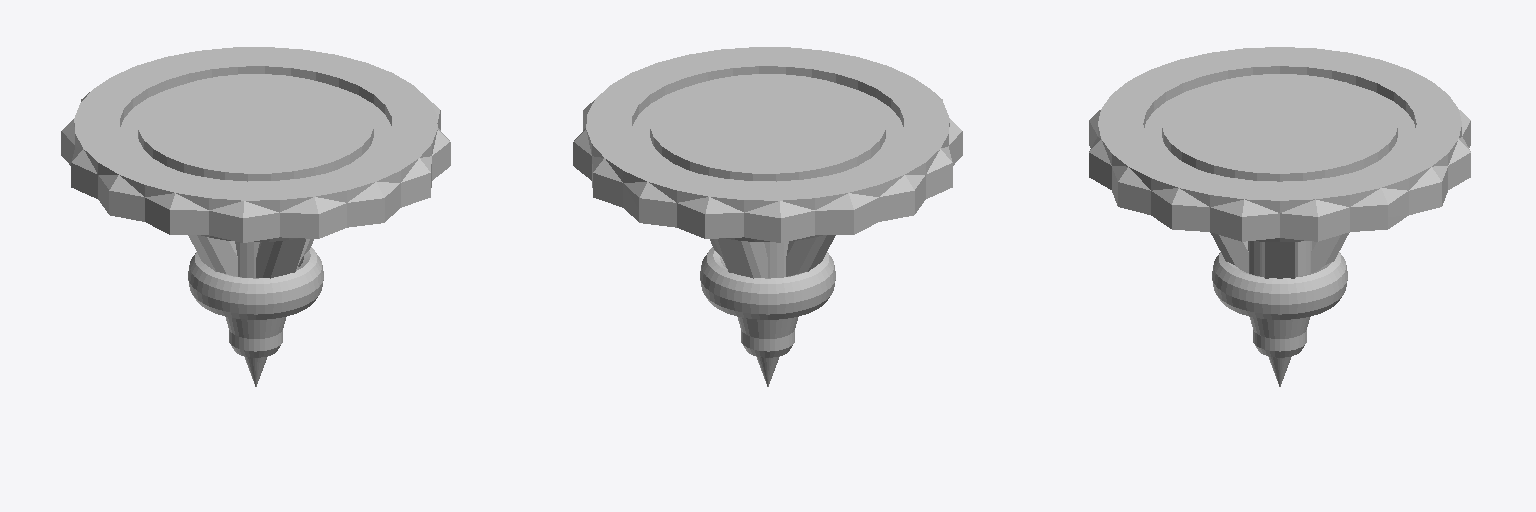
Rendered from Enemy.obj.
3 renders of one model, left to right at view 1: azimuth 30°, elevation 25°; view 2: azimuth 150°, elevation 25°; view 3: azimuth 270°, elevation 25°, orthographic.
Parts seen in each view (by area): view 1: 円柱, トーラス, 円柱.004, 立方体.003, 立方体.002; view 2: 円柱, トーラス, 円柱.004, 立方体.001, 立方体.002; view 3: 円柱, トーラス, 円柱.004, 立方体, 立方体.001, 立方体.003.
Part boxes in pixels (left/top/right/bottom): 円柱: left=61, top=47, right=450, bottom=242; トーラス: left=188, top=247, right=323, bottom=319; 円柱.004: left=226, top=242, right=285, bottom=357; 立方体.003: left=256, top=238, right=305, bottom=278; 立方体.002: left=188, top=235, right=237, bottom=276; 円柱: left=573, top=47, right=962, bottom=242; トーラス: left=700, top=247, right=835, bottom=319; 円柱.004: left=738, top=242, right=797, bottom=357; 立方体.001: left=718, top=238, right=767, bottom=278; 立方体.002: left=786, top=235, right=835, bottom=276; 円柱: left=1089, top=47, right=1470, bottom=241; トーラス: left=1212, top=252, right=1347, bottom=319; 円柱.004: left=1248, top=241, right=1311, bottom=357; 立方体: left=1262, top=242, right=1297, bottom=278; 立方体.001: left=1311, top=232, right=1349, bottom=272; 立方体.003: left=1210, top=232, right=1248, bottom=272.
Size of the model in its own units: 4.2 by 3.2 by 4.2.